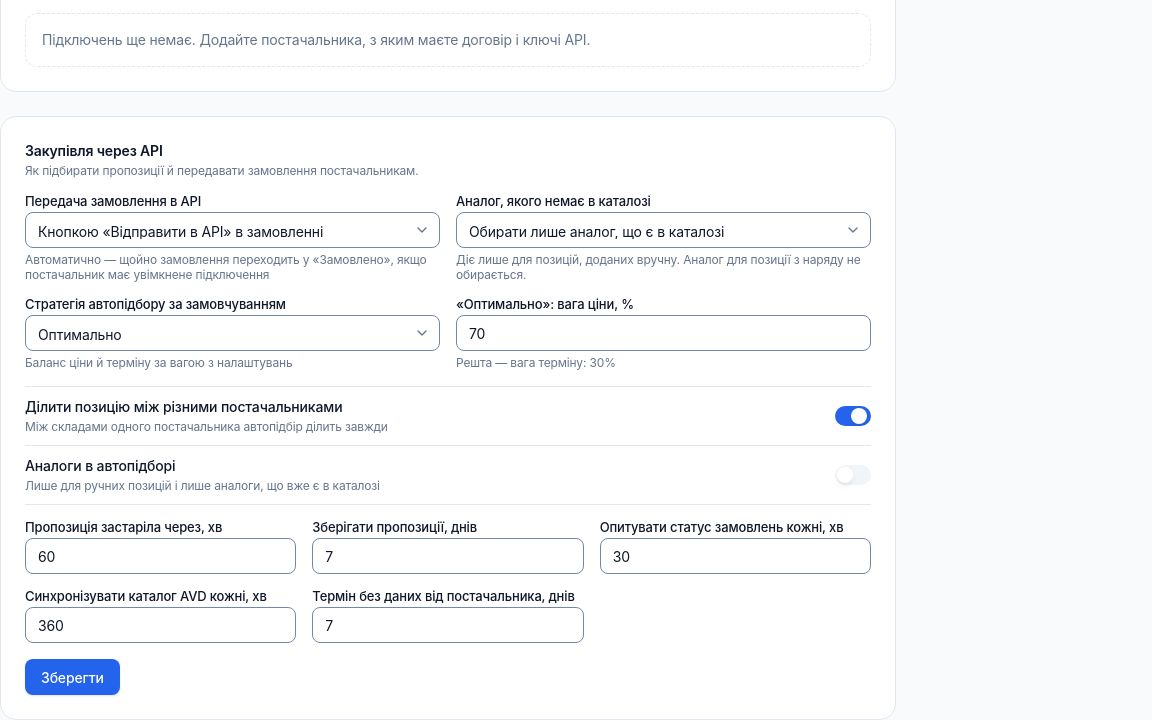
Scenario: SupplierApiTab — «Закупівля через API» › значення поза межами — помилка без запиту
(page scrolled)
Replace the text in the number field labelled "Синхронізувати каталог AVD кожні, хв" with "30" at (161, 625), box [25,607,296,643]
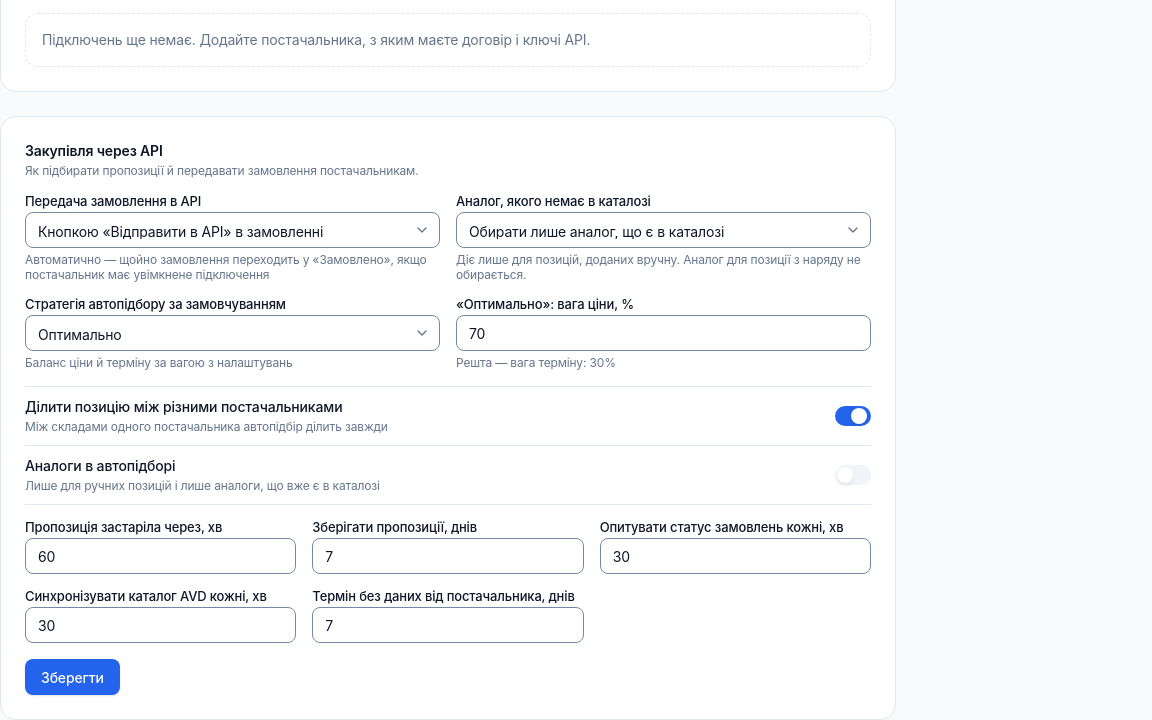
Click the button "Зберегти" at (72, 677), box [25,659,120,695]
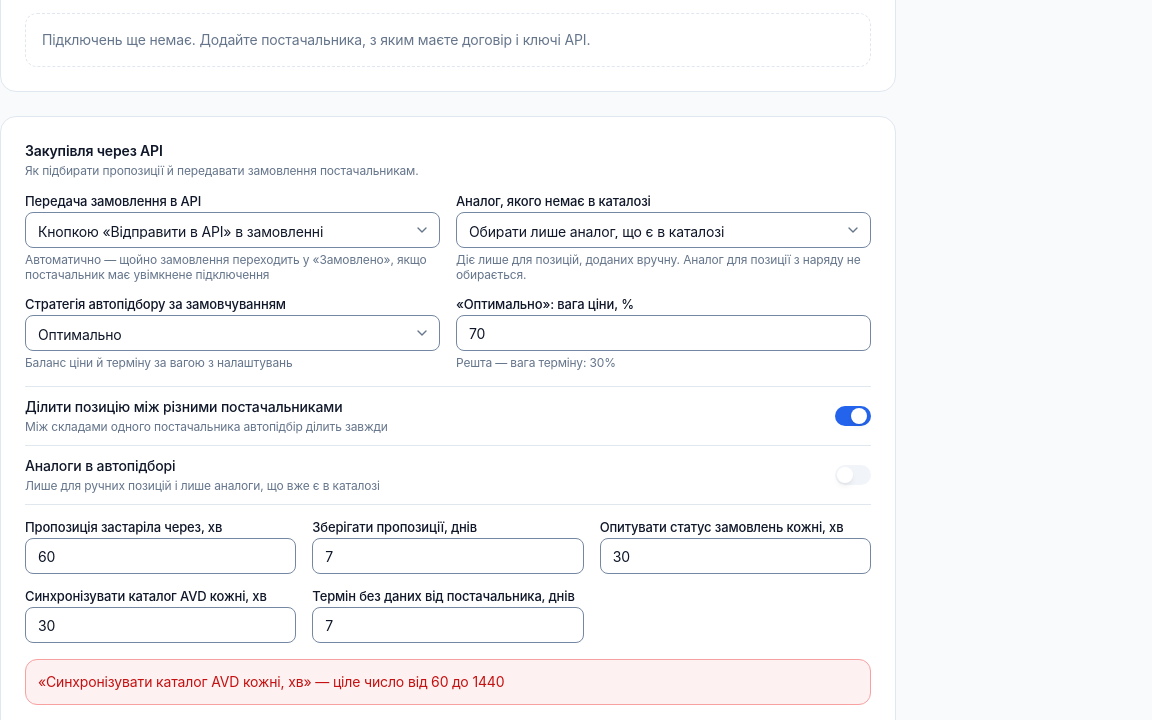
Result: the message shows "від 60 до 1440" at [38,673,504,690]
